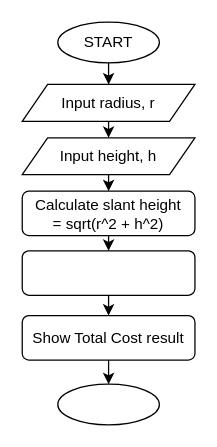
Some shapes in this 217 by 447 pixel diagram are drawn without their labels. The box of each missing label's shape, as (x1, y1, x2, y2) in pixels:
Calculate Surface area: = pi*r*(r + slant_h): (21, 250, 195, 295)
END: (57, 383, 159, 425)
